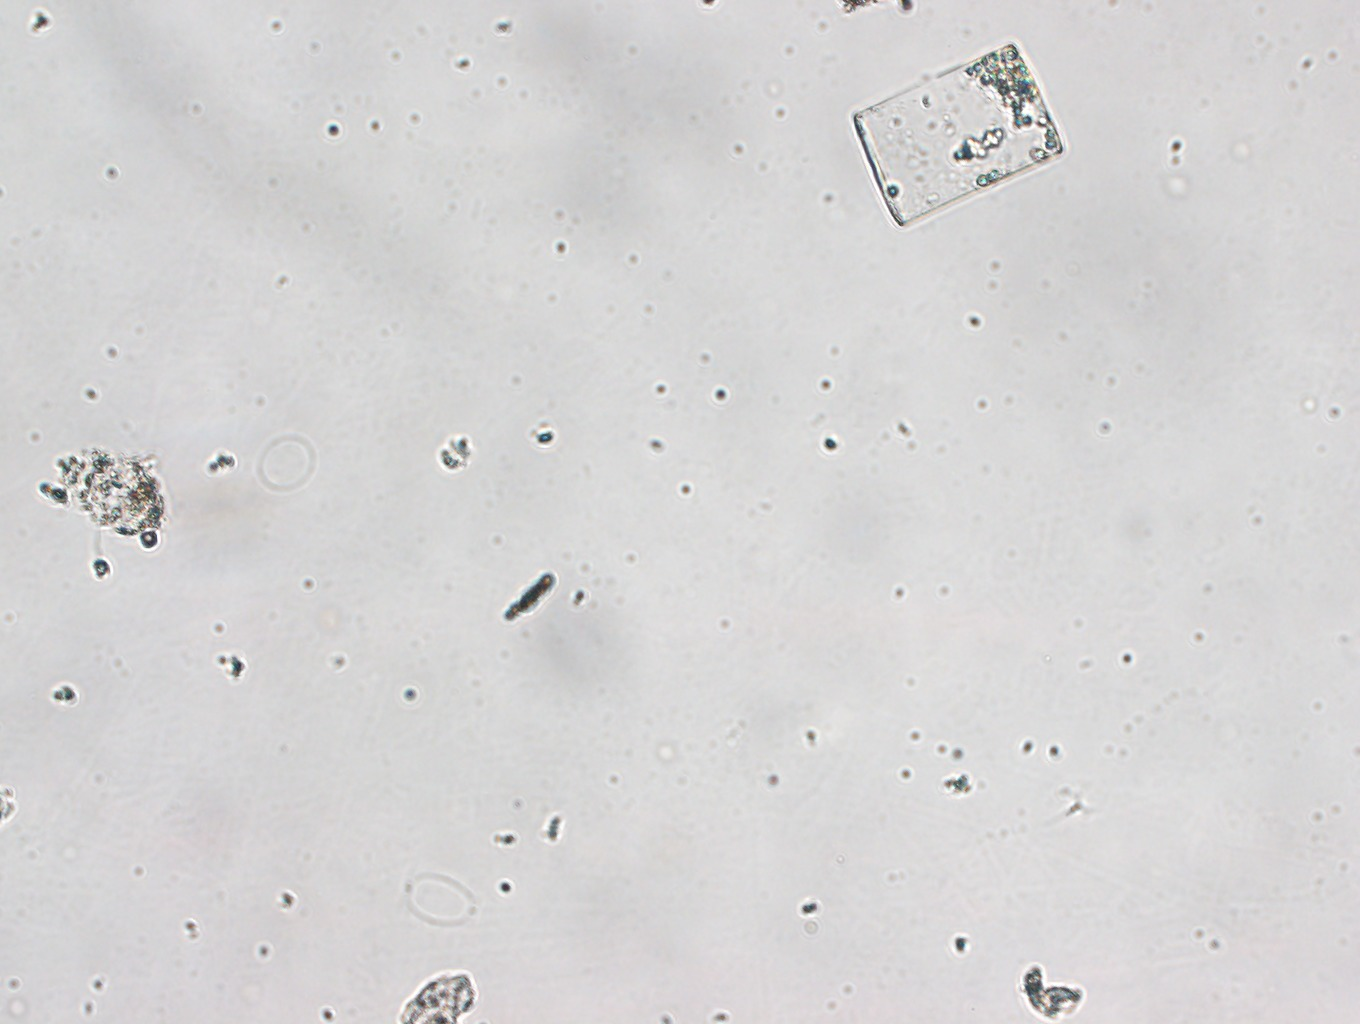guinardia flaccida: (844, 35, 1069, 229)
